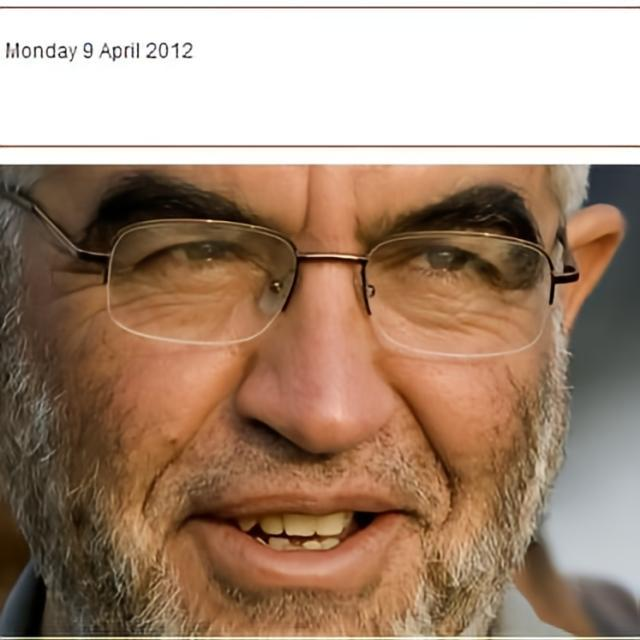content: (1, 165, 568, 640)
